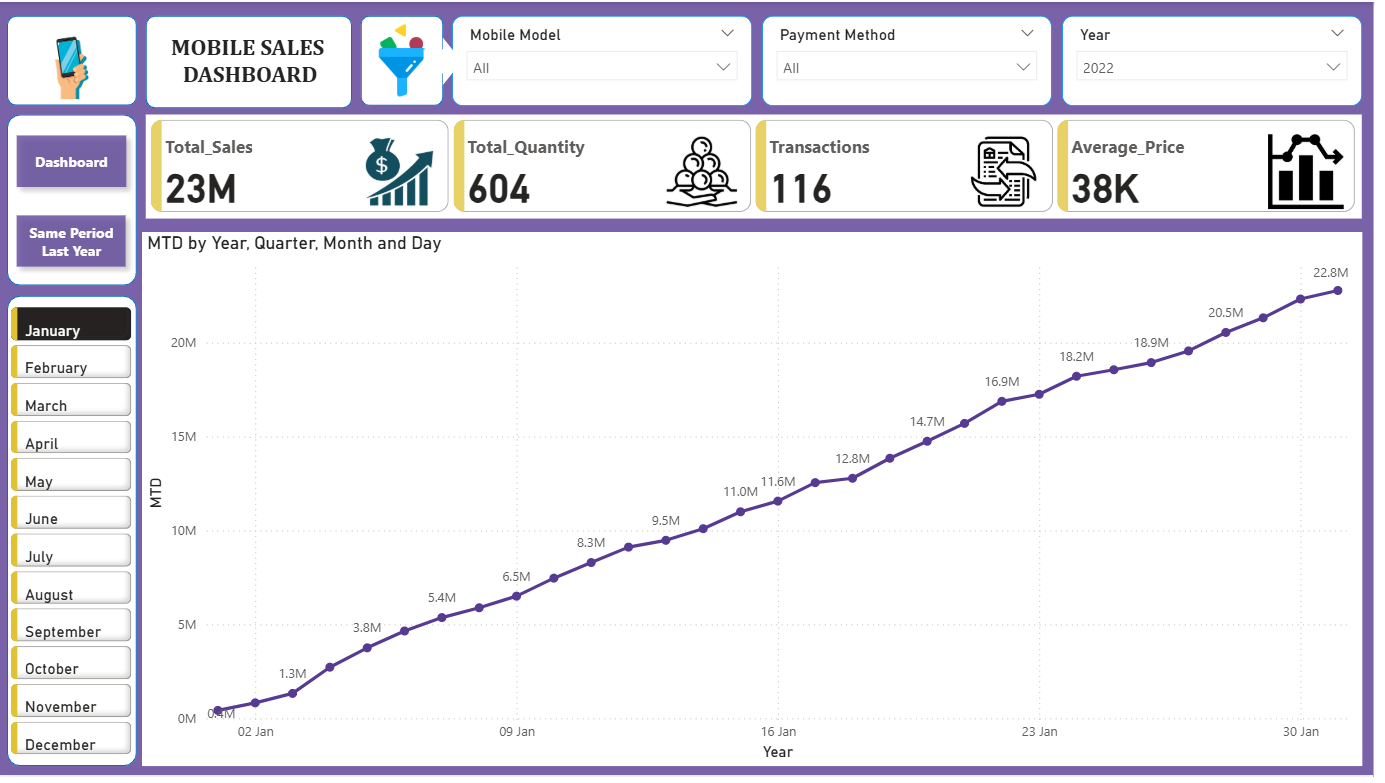

The page's visual inventory and layout, read from the dashboard file:
{"tool":"powerbi","page":{"name":"MTD Report","canvas":[1280,720],"ordinal":1},"visuals":[{"type":"shape","box":[9.3,12.8,120.9,83.7],"z":0},{"type":"image","box":[24.4,12.8,88.4,86],"z":1000},{"type":"shape","box":[9.3,104.7,120.9,159.3],"z":2000},{"type":"shape","box":[9.3,273.3,120.9,437.2],"z":3000},{"type":"advancedSlicerVisual","fields":{"Values":["Custom_Calender.Date.Variation.Date Hierarchy.Month"]},"box":[8.1,279.1,122.1,437.2],"z":4000},{"type":"cardVisual","fields":{"Data":["Sales_Data.Total_Sales","Sales_Data.Total_Quantity","Sales_Data.Transactions","Sales_Data.Average_Price"]},"box":[138.4,104.7,1131.4,96.5],"z":5000},{"type":"slicer","fields":{"Values":["Sales_Data.Mobile Model"]},"box":[423.3,12.8,279.1,83.7],"z":6000},{"type":"slicer","fields":{"Values":["Sales_Data.Payment Method"]},"box":[711.6,12.8,269.8,83.7],"z":7000},{"type":"slicer","fields":{"Values":["Custom_Calender.Date.Variation.Date Hierarchy.Year"]},"box":[990.7,12.8,279.1,83.7],"z":8000},{"type":"shape","box":[338.4,12.8,76.7,83.7],"z":9000},{"type":"image","box":[320.9,12.8,111.6,83.7],"z":10000},{"type":"shape","box":[396.5,32.6,36,45.3],"z":11000},{"type":"shape","box":[138.4,12.8,191.9,86],"z":12000},{"type":"textbox","box":[150,24.4,170.9,72.1],"z":13000},{"type":"pageNavigator","box":[9.3,115.1,120.9,140.7],"z":14000},{"type":"lineChart","fields":{"Category":["Custom_Calender.Date.Variation.Date Hierarchy.Year","Custom_Calender.Date.Variation.Date Hierarchy.Quarter","Custom_Calender.Date.Variation.Date Hierarchy.Month","Custom_Calender.Date.Variation.Date Hierarchy.Day"],"Y":["Sales_Data.MTD"]},"box":[134.9,214,1134.9,496.5],"z":15000}]}

Visuals, with their boxes in screenshot pixels (x1, y1, x2, y2), scaled from the page's 1280x720 canvas onto the 1385x783 screenshot:
shape: region(10, 14, 141, 105)
image: region(26, 14, 122, 107)
shape: region(10, 114, 141, 287)
shape: region(10, 297, 141, 773)
advancedSlicerVisual - Custom_Calender.Date.Variation.Date Hierarchy.Month: region(9, 304, 141, 779)
cardVisual - Sales_Data.Total_Sales x Sales_Data.Total_Quantity: region(150, 114, 1374, 219)
slicer - Sales_Data.Mobile Model: region(458, 14, 760, 105)
slicer - Sales_Data.Payment Method: region(770, 14, 1062, 105)
slicer - Custom_Calender.Date.Variation.Date Hierarchy.Year: region(1072, 14, 1374, 105)
shape: region(366, 14, 449, 105)
image: region(347, 14, 468, 105)
shape: region(429, 35, 468, 85)
shape: region(150, 14, 357, 107)
textbox: region(162, 27, 347, 105)
pageNavigator: region(10, 125, 141, 278)
lineChart - Custom_Calender.Date.Variation.Date Hierarchy.Year x Custom_Calender.Date.Variation.Date Hierarchy.Quarter: region(146, 233, 1374, 773)
